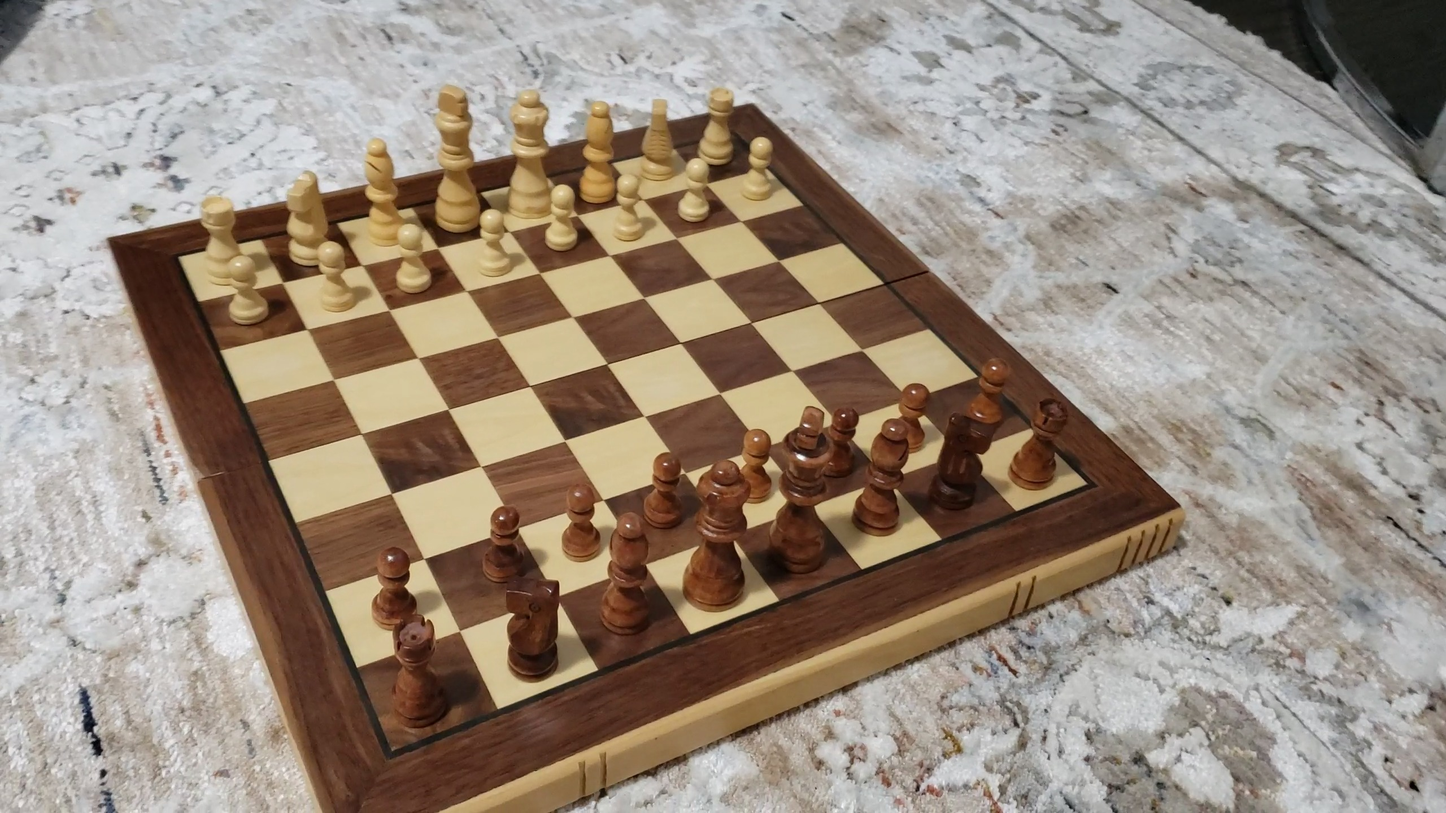black-bishop: (851, 418, 910, 536), (600, 511, 652, 637)
black-king: (770, 401, 833, 575)
black-knight: (927, 411, 996, 510), (502, 575, 563, 683)
black-pawn: (371, 543, 417, 631), (965, 353, 1012, 437), (482, 503, 529, 585), (641, 448, 685, 531), (560, 479, 603, 563), (887, 379, 933, 454), (735, 425, 776, 503), (822, 403, 859, 478)
black-queen: (683, 460, 754, 615)
black-rook: (388, 617, 451, 733), (1008, 395, 1072, 491)
white-bishop: (362, 133, 401, 250), (578, 97, 616, 206)
white-king: (432, 78, 479, 236)
white-knight: (284, 168, 327, 268), (639, 94, 677, 184)
white-pawn: (387, 215, 438, 300), (220, 251, 274, 330), (308, 237, 359, 317), (470, 206, 519, 283), (605, 168, 652, 246), (734, 132, 782, 207), (538, 180, 585, 256), (671, 153, 718, 229)
white-queen: (507, 84, 552, 220)
white-rook: (197, 188, 252, 283), (696, 82, 739, 169)
